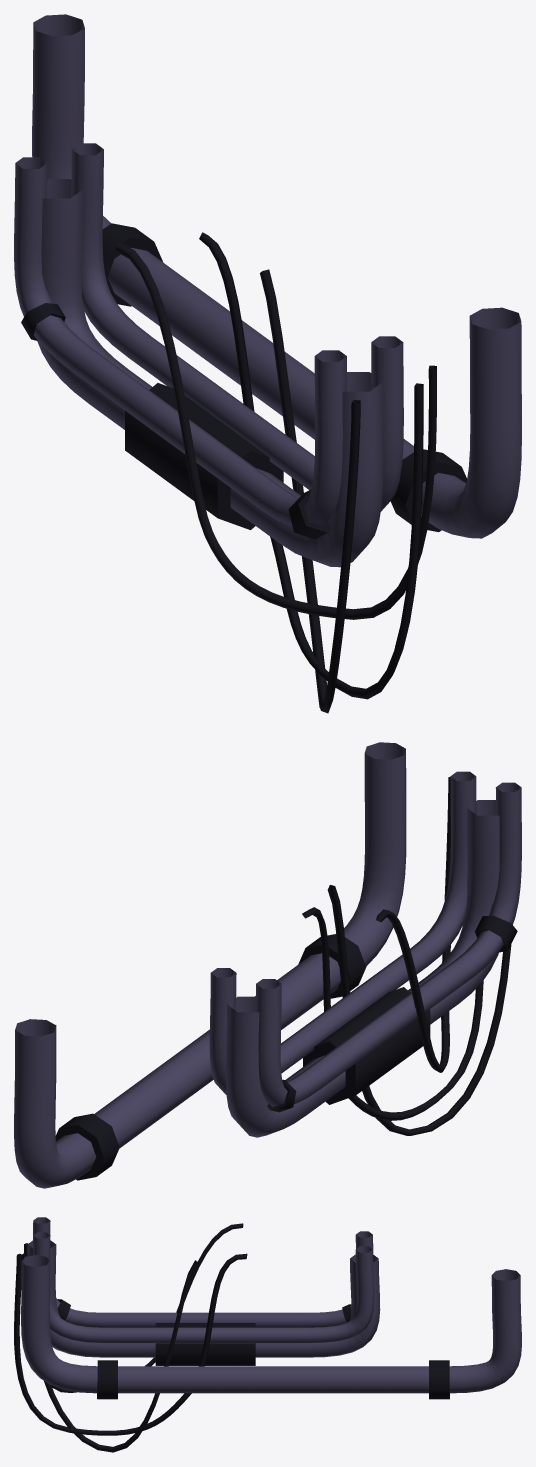
The model's file is pipes.fbx.
3 renders of one model, top to bottom at view 1: azimuth 30°, elevation 25°; view 2: azimuth 150°, elevation 25°; view 3: azimuth 270°, elevation 25°, orthographic. The views are drawn at different scales.
Parts seen in each view (by area): view 1: BezierCurve.001, BezierCurve.002, BezierCurve.004, BezierCurve.003, BezierCurve.006, BezierCurve, BezierCurve.005; view 2: BezierCurve.001, BezierCurve.002, BezierCurve.004, BezierCurve.003, BezierCurve.005, BezierCurve.006, BezierCurve; view 3: BezierCurve.001, BezierCurve.002, BezierCurve.003, BezierCurve.004, BezierCurve, BezierCurve.005, BezierCurve.006.
Part boxes in pixels (x1,y1,x2,y2): BezierCurve.001: [32, 14, 521, 538]; BezierCurve.002: [37, 179, 383, 567]; BezierCurve.004: [14, 157, 346, 539]; BezierCurve.003: [71, 143, 403, 511]; BezierCurve.006: [115, 242, 436, 619]; BezierCurve: [199, 232, 423, 699]; BezierCurve.005: [260, 269, 360, 713]; BezierCurve.001: [14, 742, 406, 1188]; BezierCurve.002: [226, 800, 499, 1137]; BezierCurve.004: [255, 782, 521, 1112]; BezierCurve.003: [209, 771, 476, 1094]; BezierCurve.005: [327, 885, 511, 1135]; BezierCurve.006: [376, 776, 450, 1072]; BezierCurve: [302, 907, 483, 1120]; BezierCurve.001: [21, 1255, 521, 1399]; BezierCurve.002: [27, 1240, 380, 1365]; BezierCurve.003: [33, 1232, 374, 1343]; BezierCurve.004: [33, 1217, 373, 1327]; BezierCurve: [14, 1253, 247, 1435]; BezierCurve.005: [24, 1243, 198, 1452]; BezierCurve.006: [22, 1223, 243, 1392].
Size of the model in its own units: 191 by 334 by 704.
